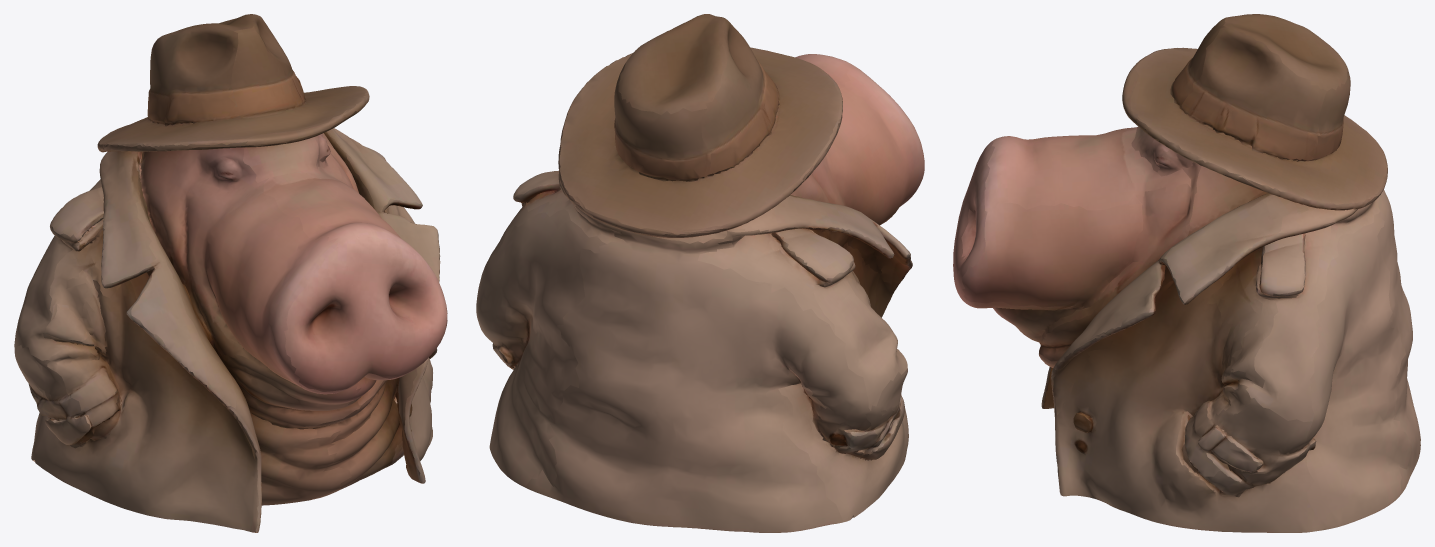
The model's file is kabanyeze.glb.
The picture shows the model from 3 angles, left to right: view 1: azimuth 30°, elevation 25°; view 2: azimuth 150°, elevation 25°; view 3: azimuth 270°, elevation 25°; orthographic projection. The views are drawn at different scales.
Visible parts, largest first — view 1: textured_mesh.obj; view 2: textured_mesh.obj; view 3: textured_mesh.obj.
Boxes of the visible parts, box(x1,y1,x2,y2) form: textured_mesh.obj: box(14, 14, 447, 532); textured_mesh.obj: box(476, 14, 924, 532); textured_mesh.obj: box(953, 14, 1420, 532).
Size of the model in its own units: 1.96 by 1.99 by 1.98.
Materials: 1 (1 with a texture image).
